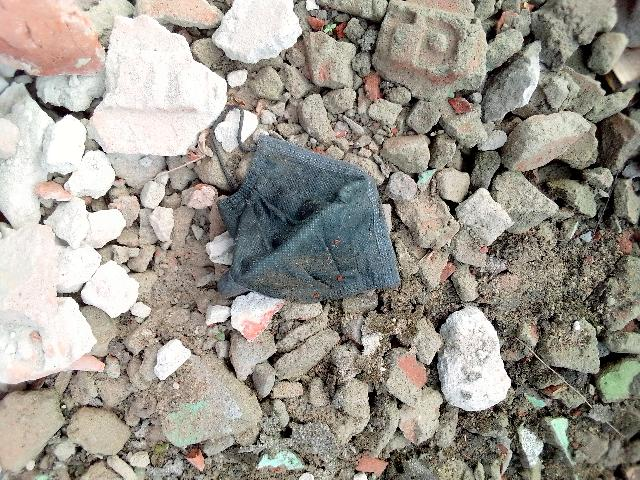mask: (230, 125, 404, 327)
